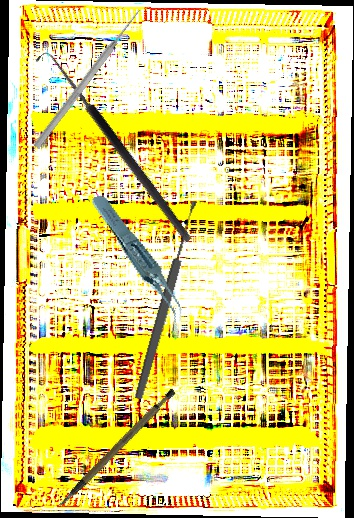Hook Surgical: (33, 47, 194, 251)
Pusher: (31, 6, 145, 151)
Scalpel Handle: (42, 386, 189, 508)
Surgical Spoon: (132, 199, 201, 401)
Tissue Forceps: (90, 182, 186, 338)
